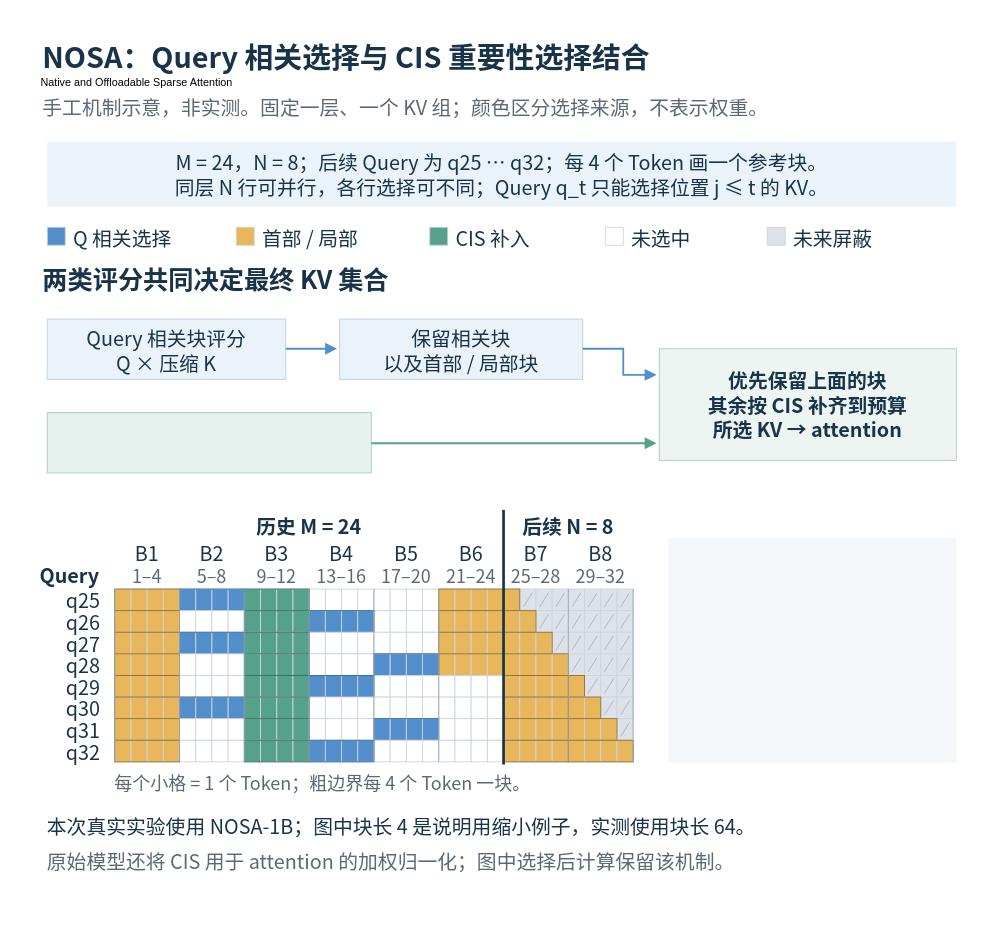
Some shapes in this 1003 by 931 pixel diagram are drawn without their labels. Each missing label, with the centre of its shape:
KV 自身的重要性 CIS：不依赖当前 Query: point 208,442
蓝：1 个相关块。 金：首块 + 本地 2 块。 绿：按 CIS 补入 1 块。 本例中 B3 反复入选； 这是示意的排序条件， 不代表永久固定。: point 812,649
